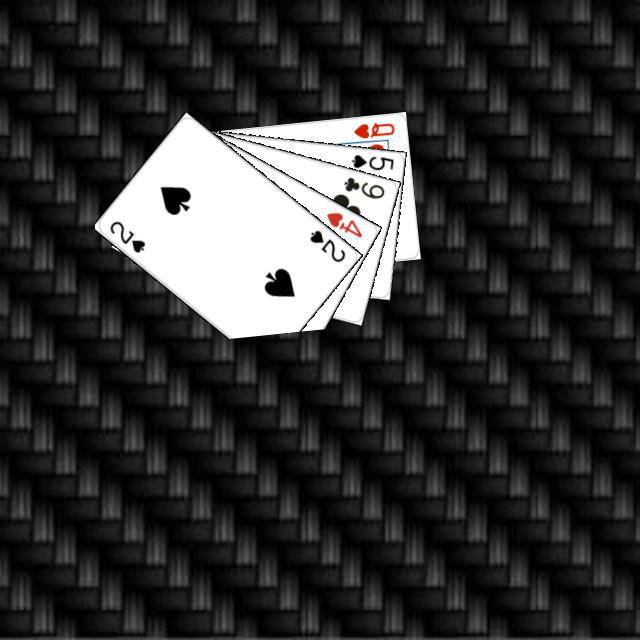2s: (305, 225, 347, 264), (105, 216, 147, 255)
4h: (321, 207, 364, 240)
5s: (346, 149, 395, 172)
9c: (339, 172, 386, 200)
Qh: (348, 117, 396, 140)
